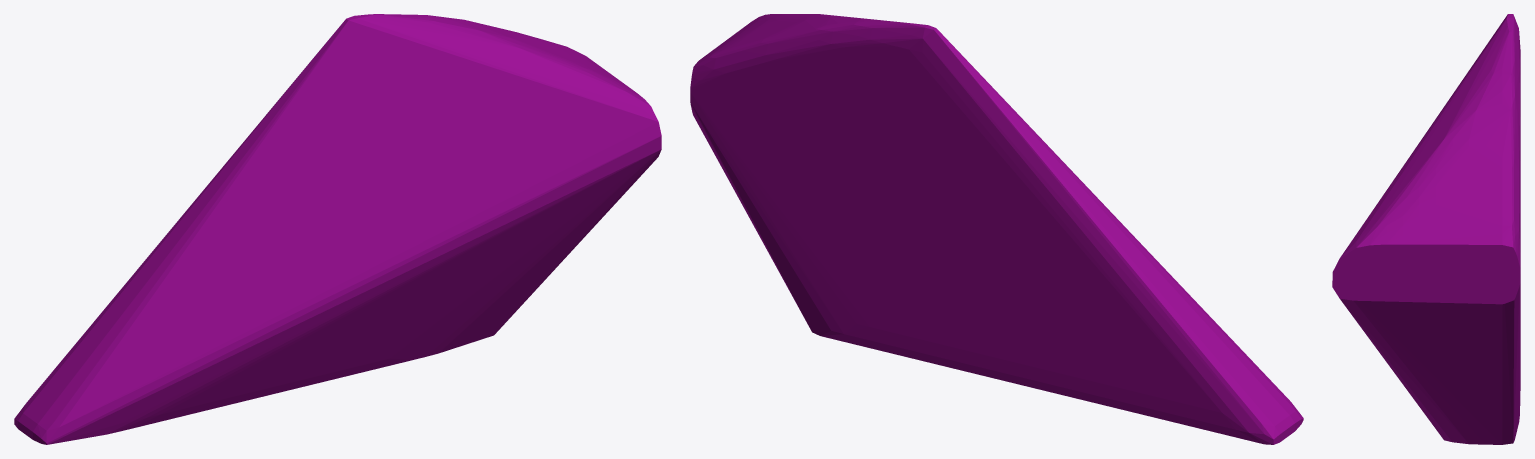
Rendered from left_shoulder_roll_link_part_14.obj.
3 renders of one model, left to right at view 1: azimuth 30°, elevation 25°; view 2: azimuth 150°, elevation 25°; view 3: azimuth 270°, elevation 25°, orthographic. The views are drawn at different scales.
Size of the model in its own units: 0.0437 by 0.0242 by 0.0112.
